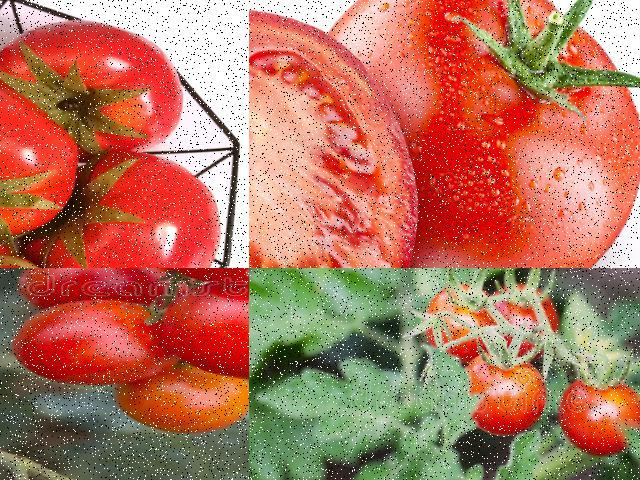tomato: (326, 0, 639, 267), (0, 15, 191, 159), (51, 145, 221, 267), (8, 302, 182, 394), (0, 87, 72, 238), (159, 271, 248, 384), (130, 371, 248, 444), (18, 268, 173, 317), (554, 377, 639, 466), (466, 351, 546, 442), (415, 282, 492, 362), (493, 278, 564, 362)
